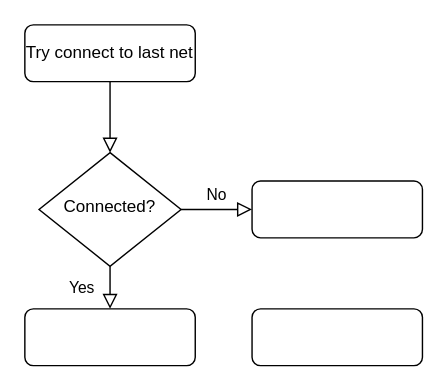
The diagram is 447 pixels wide and 391 high, and some of its shapes have lost their labels. The centre of each missing label's shape, as x and y in pixels:
Create AP: the point at 336,209
Start send greeting: the point at 109,336
